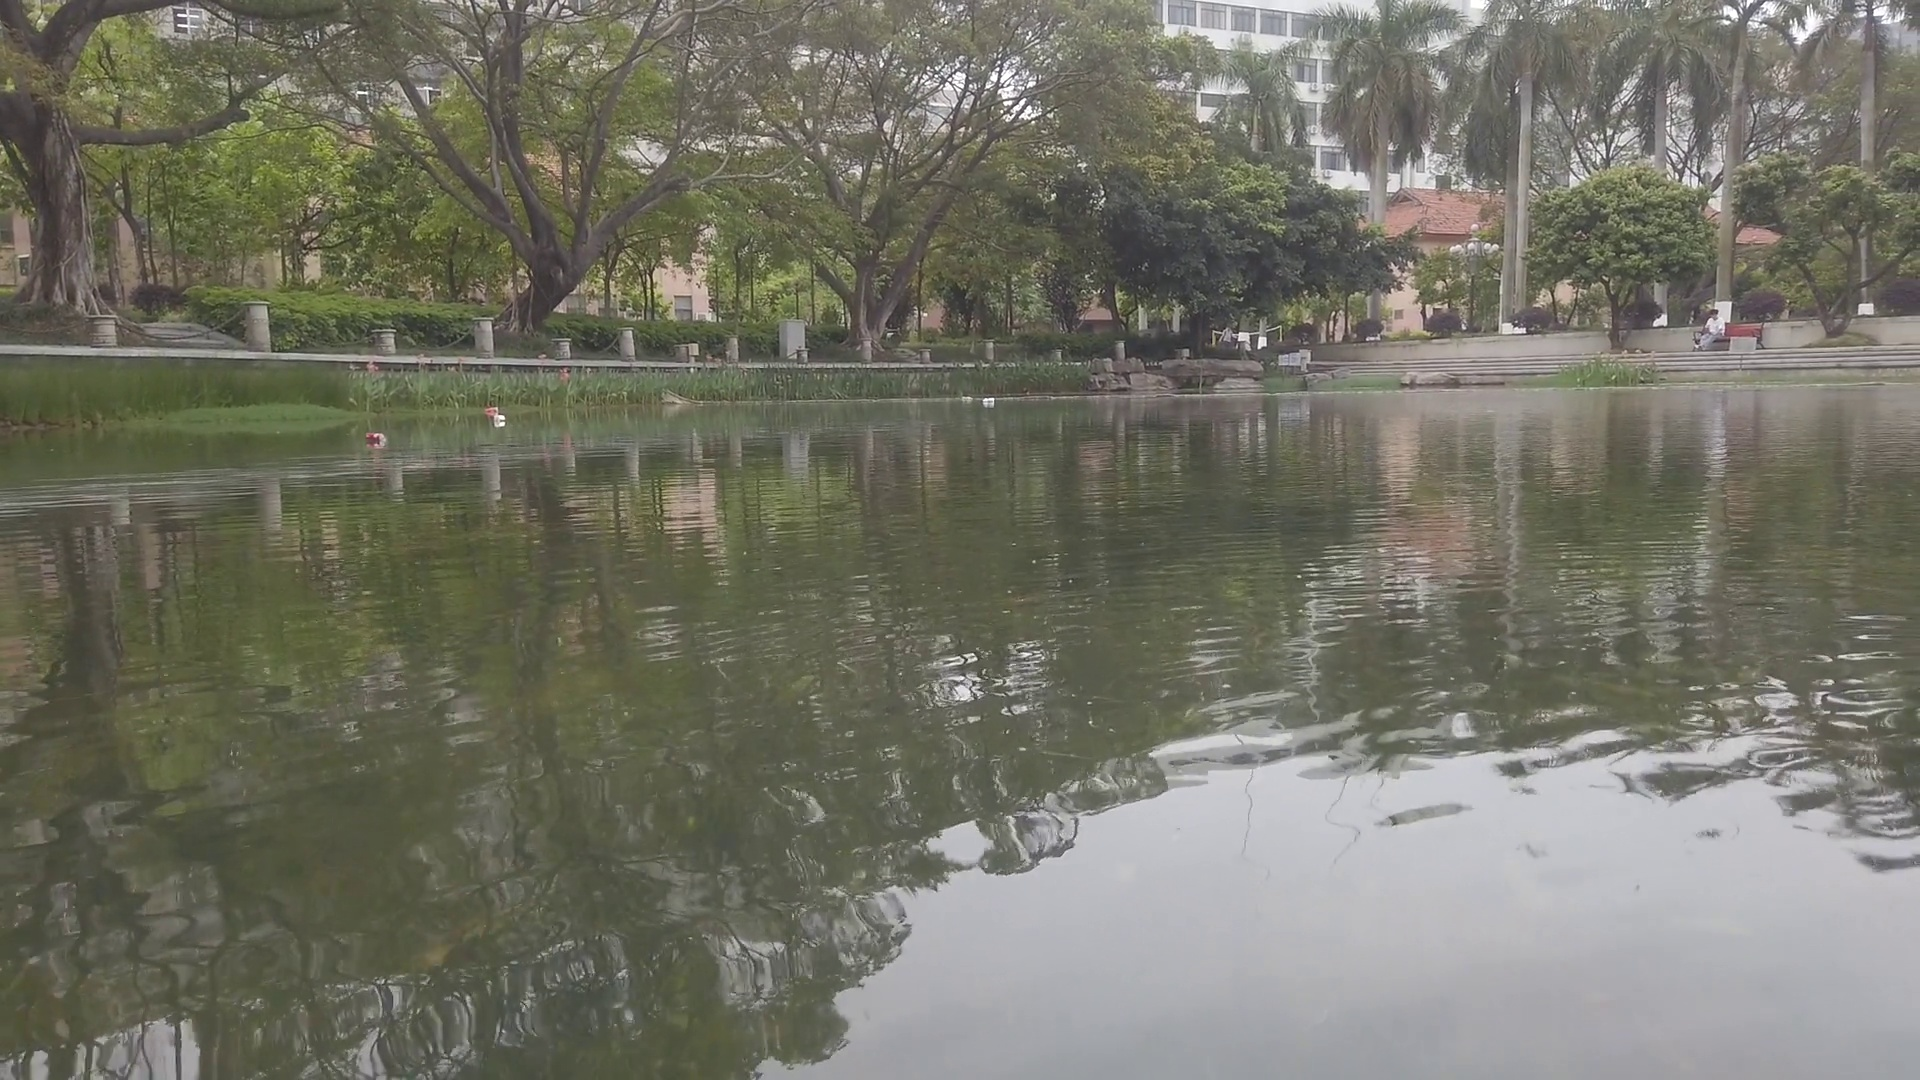bottle: (365, 431, 385, 444), (487, 406, 500, 414), (982, 396, 996, 402), (963, 396, 972, 402)
carton: (495, 415, 506, 425)
